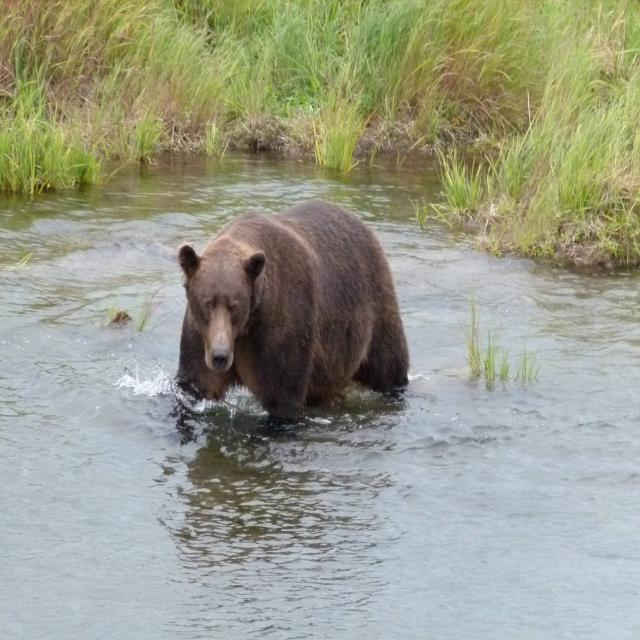bear face: (177, 202, 408, 411)
